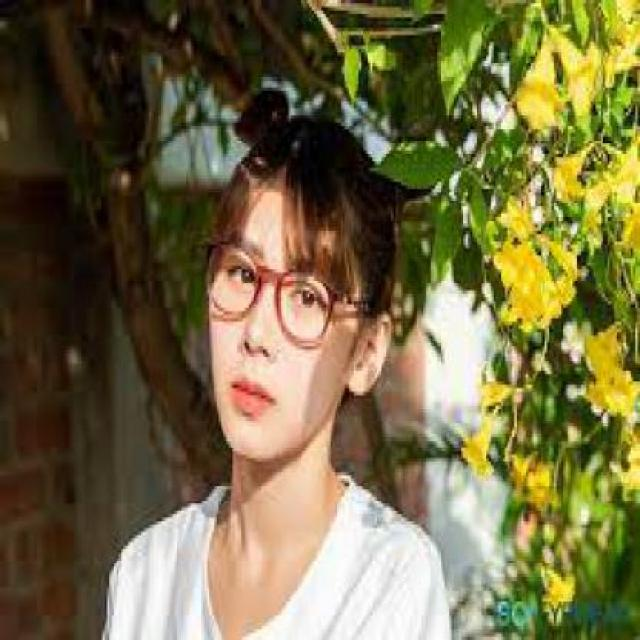Glasses: (195, 238, 358, 354)
